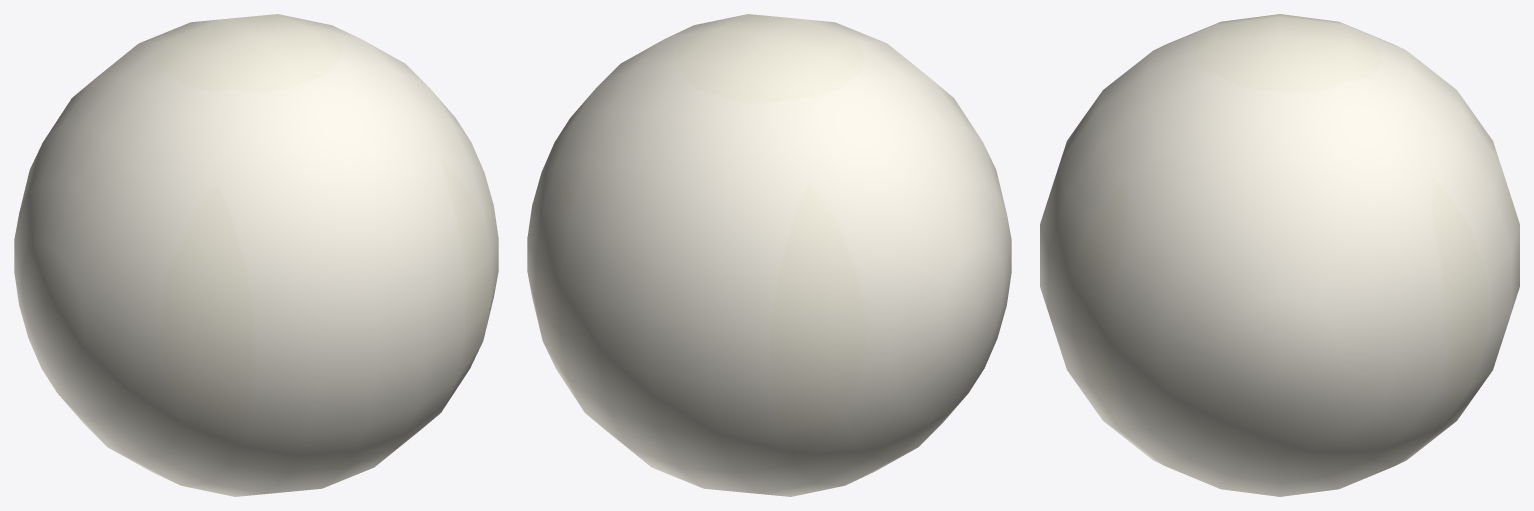
Rendered from Pool_Cue_Ball.fbx.
3 views of the same model, side by side, from view 1: azimuth 30°, elevation 25°; view 2: azimuth 150°, elevation 25°; view 3: azimuth 270°, elevation 25° (orthographic).
Visible parts, largest first — view 1: Pool_Cue_Ball; view 2: Pool_Cue_Ball; view 3: Pool_Cue_Ball.
Part boxes in pixels (left/top/right/bottom): Pool_Cue_Ball: left=14, top=14, right=498, bottom=496; Pool_Cue_Ball: left=527, top=14, right=1011, bottom=496; Pool_Cue_Ball: left=1040, top=14, right=1519, bottom=496.
Size of the model in its own units: 0.0511 by 0.0511 by 0.0505.
